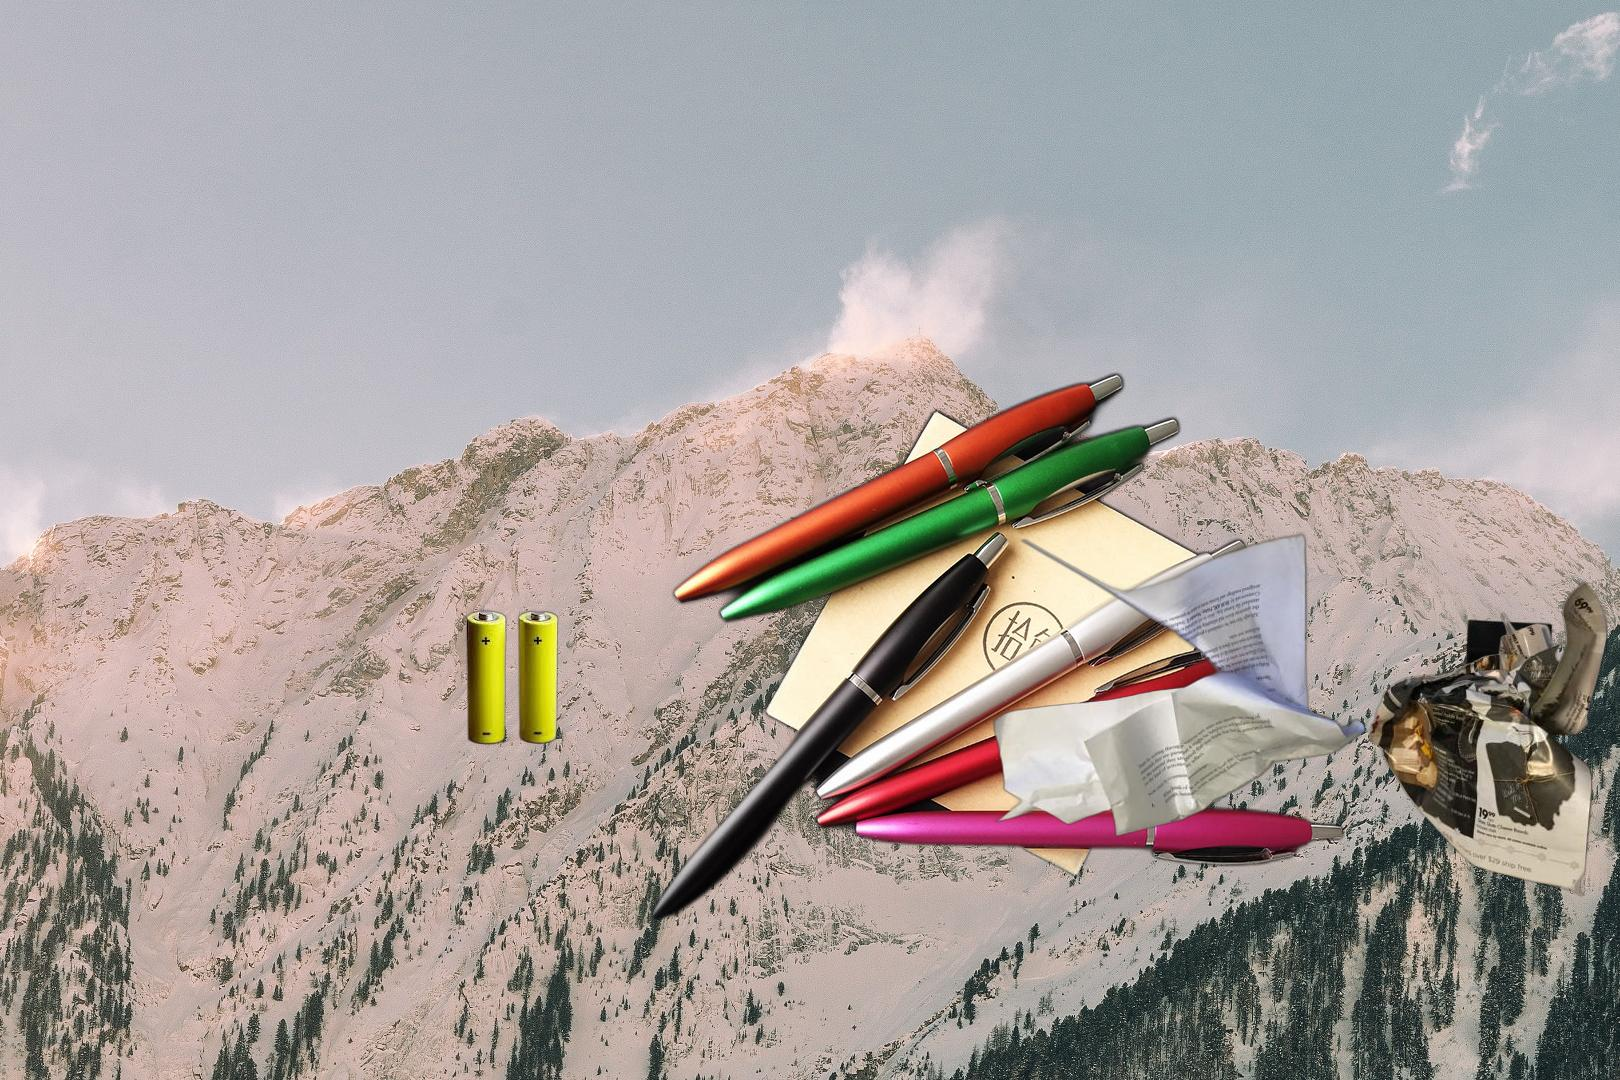battery: (464, 607, 560, 747)
paper: (990, 529, 1370, 840), (1364, 580, 1612, 898)
paper-bag: (1460, 617, 1555, 776)
penholder: (646, 366, 1350, 927)
